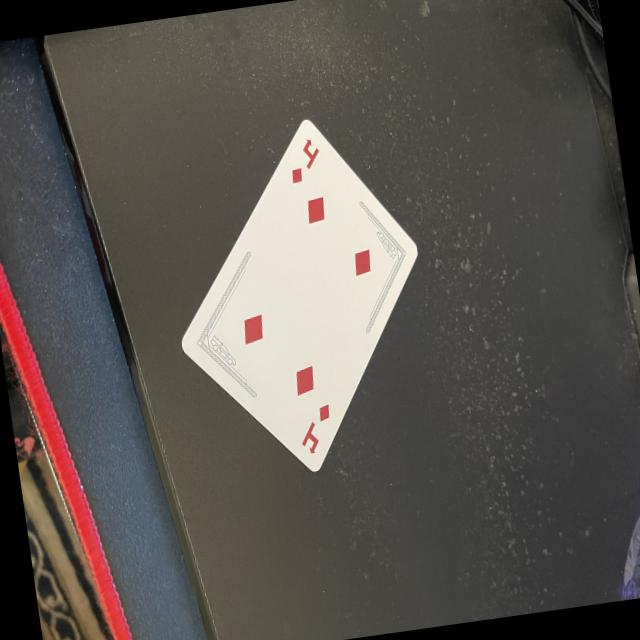4 of diamonds: (178, 118, 416, 473)
